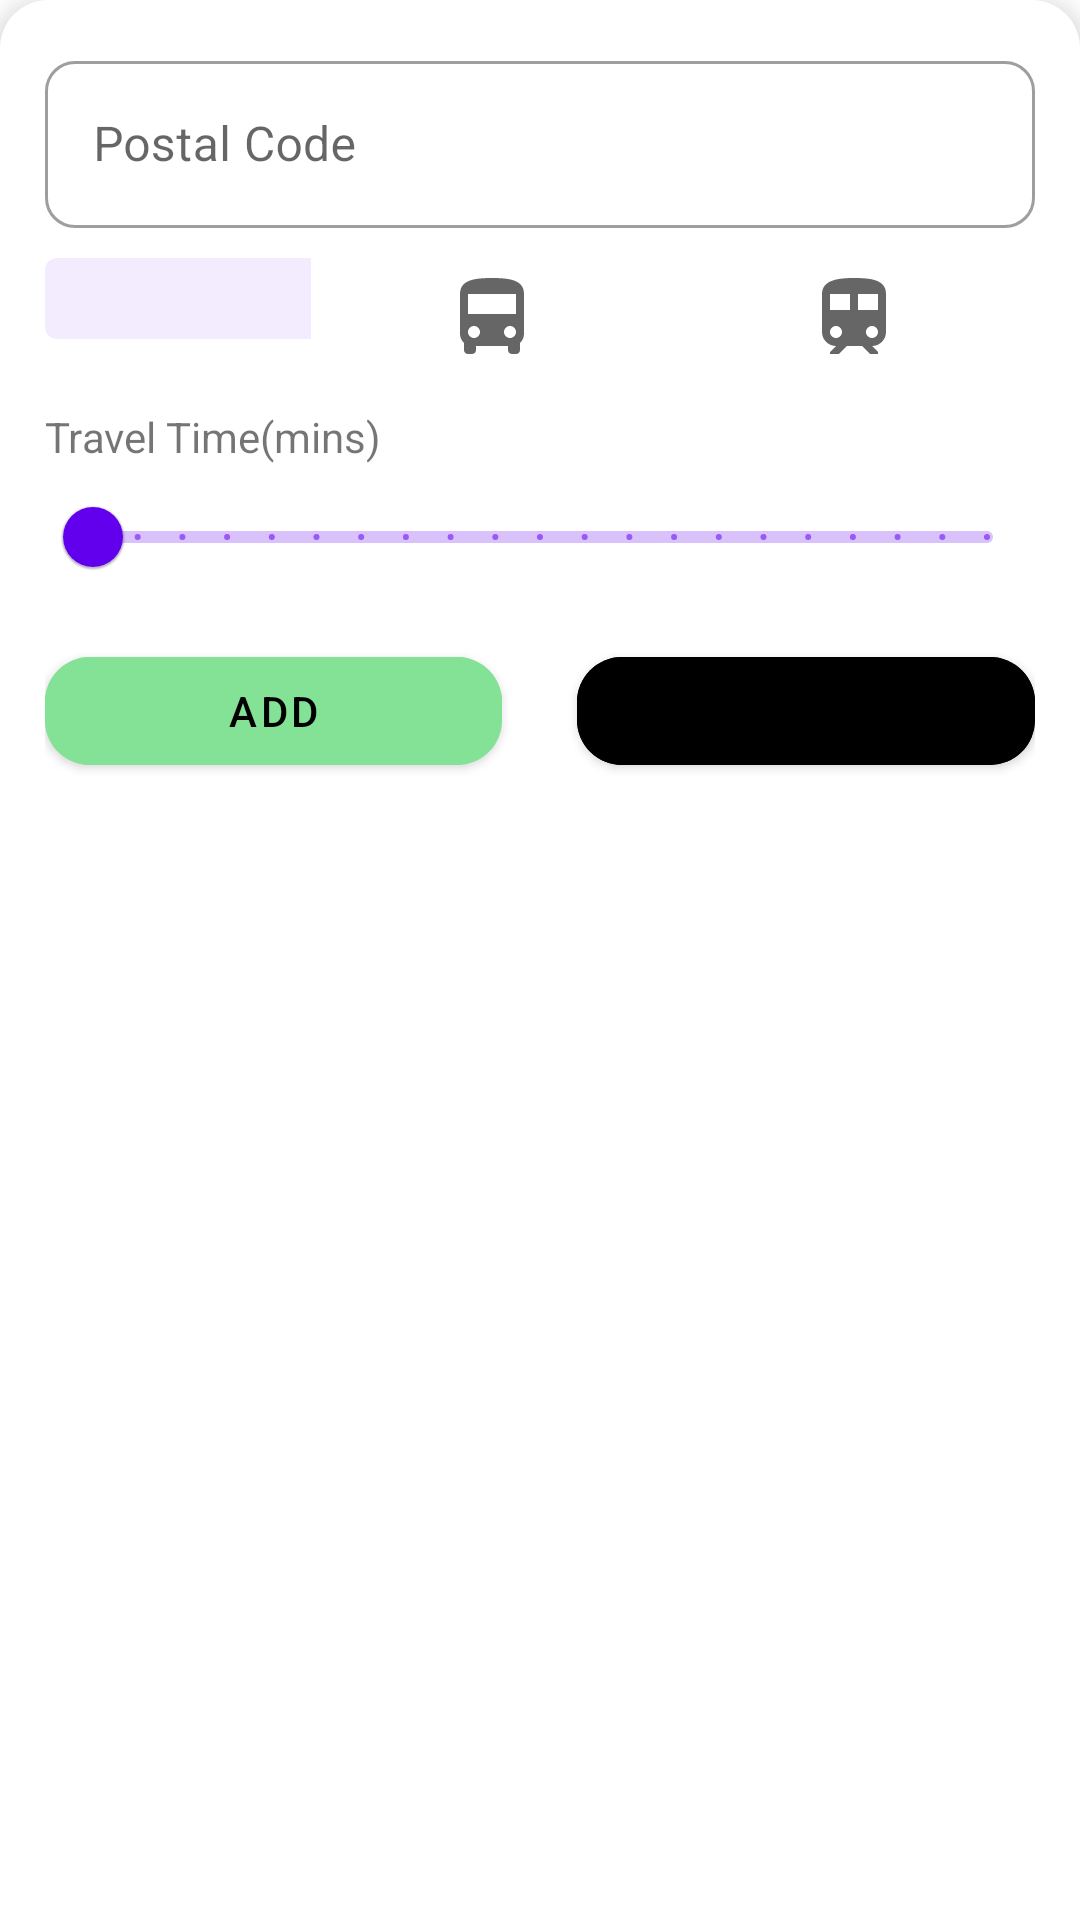

Icon click points for this 1080x1920 phone screenshot, format (x,y):
directions bus: (492,316)
train: (854,316)
